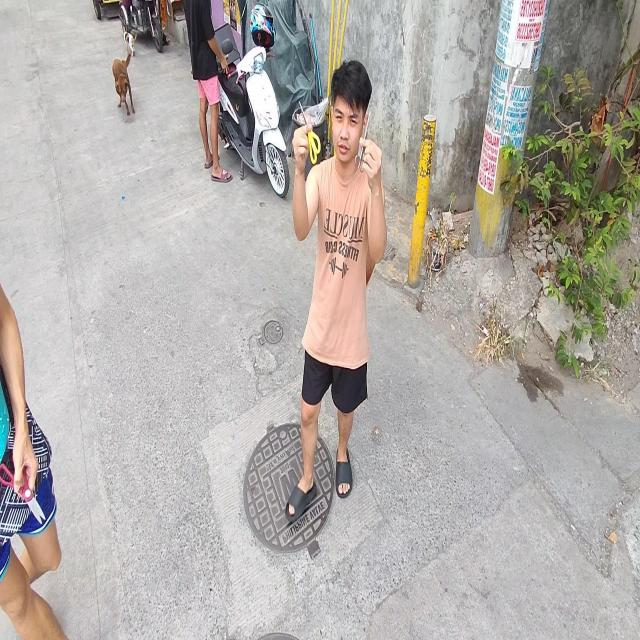scissor: (0, 455, 46, 525), (298, 101, 320, 164), (355, 113, 371, 173)
